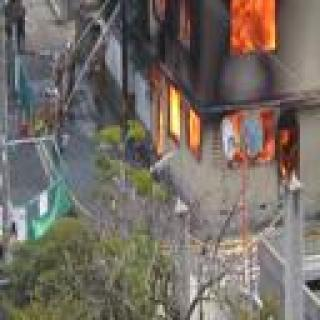fire: (141, 0, 299, 196)
